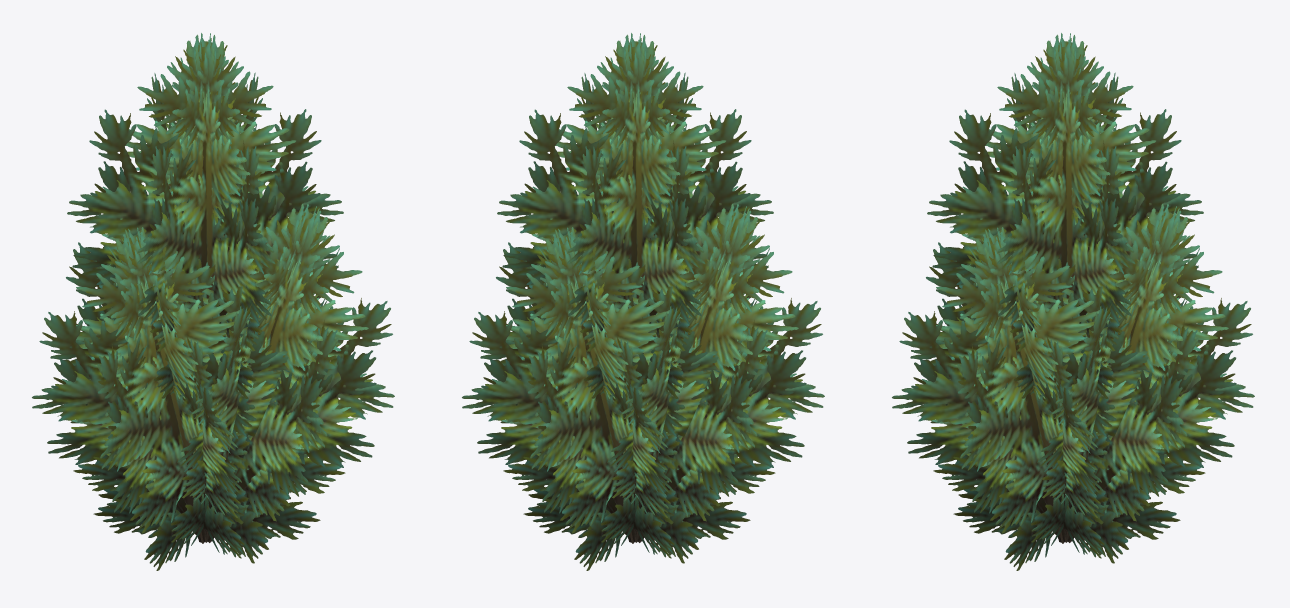
Rendered from HP3_pineBig3 1.fbx.
The picture shows the model from 3 angles, left to right: view 1: azimuth 30°, elevation 25°; view 2: azimuth 150°, elevation 25°; view 3: azimuth 270°, elevation 25°; orthographic projection.
Parts seen in each view (by area): view 1: HP3_pineBig3; view 2: HP3_pineBig3; view 3: HP3_pineBig3.
Boxes of the visible parts, box(x1,y1,x2,y2) form: HP3_pineBig3: box(32, 33, 394, 570); HP3_pineBig3: box(462, 33, 824, 570); HP3_pineBig3: box(892, 33, 1254, 570).
Bounding box in the file's own units: 8.97 × 14.46 × 9.78.
